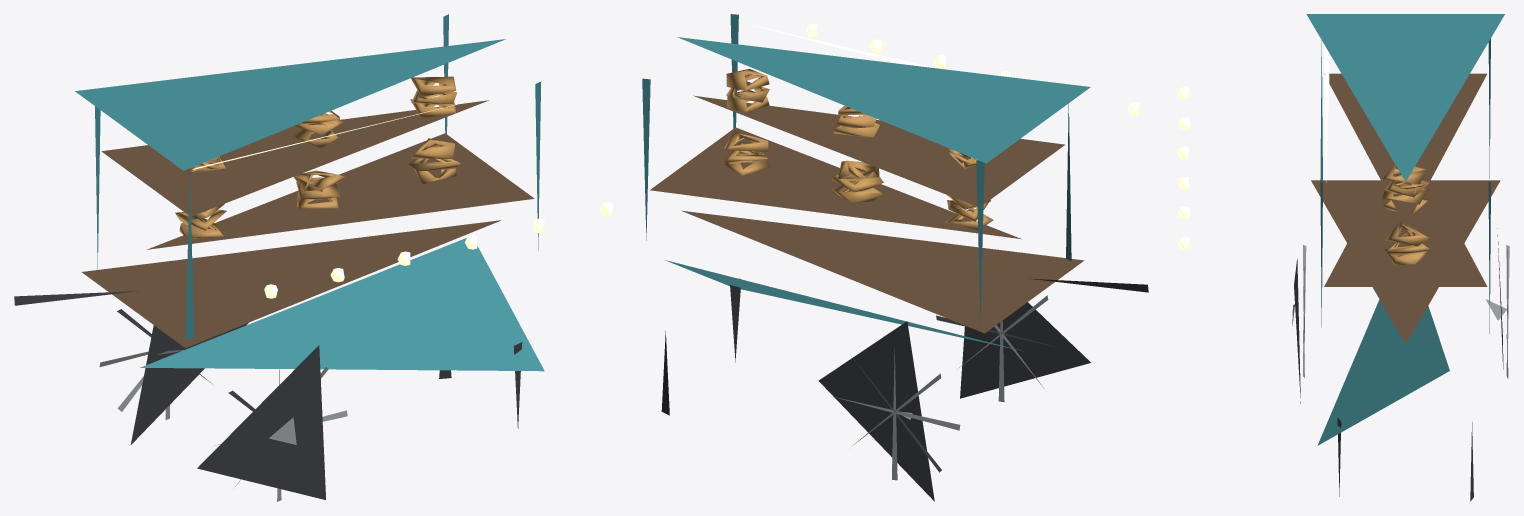
The model's file is prop_simit_cart_lod1.glb.
3 views of the same model, side by side, from view 1: azimuth 30°, elevation 25°; view 2: azimuth 150°, elevation 25°; view 3: azimuth 270°, elevation 25° (orthographic). The views are drawn at different scales.
Visible parts, largest first — view 1: simit_cart.001_lod1, simit_cart_lamps_lod1; view 2: simit_cart.001_lod1, simit_cart_lamps_lod1; view 3: simit_cart.001_lod1, simit_cart_lamps_lod1.
Boxes of the visible parts, x1,y1,x2,y2 form: simit_cart.001_lod1: (14, 14, 544, 501); simit_cart_lamps_lod1: (192, 94, 613, 298); simit_cart.001_lod1: (642, 14, 1148, 501); simit_cart_lamps_lod1: (745, 23, 1139, 115); simit_cart.001_lod1: (1292, 14, 1509, 501); simit_cart_lamps_lod1: (1177, 44, 1329, 249).
Bounding box in the file's own units: 2.35 × 1.67 × 1.5.
